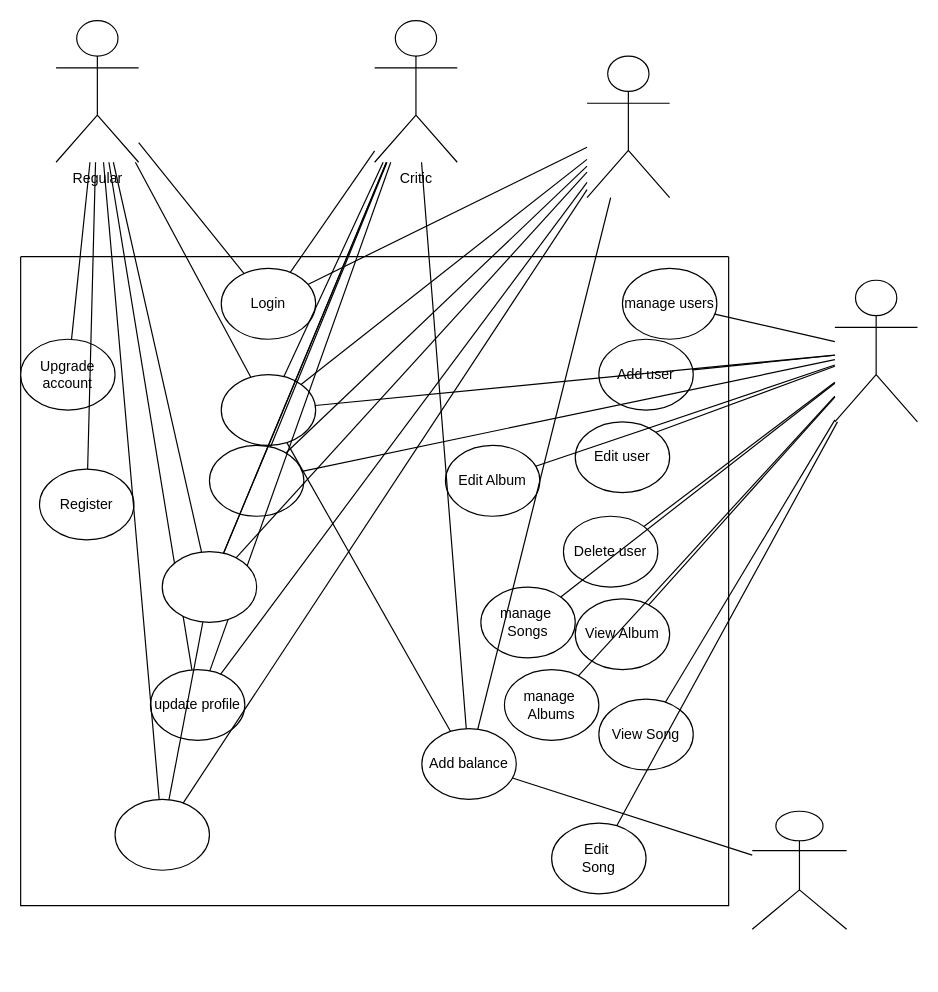
The diagram is 938 pixels wide and 992 high, and some of its shapes have lost their labels. The shapes that lost their labels are listed below. From the top down, each one's centre as x and y in pixels, then its label:
At (628,126): "Musician".
At (875,350): "Admin".
At (268,409): "Add Album".
At (256,480): "Add Song".
At (209,586): "manage balance".
At (161,834): "View profile".
At (799,869): "External payment".
